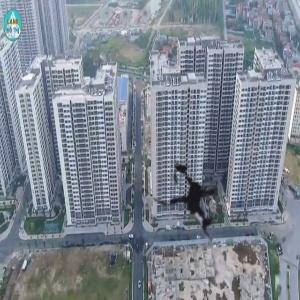drone: (121, 133, 263, 275)
